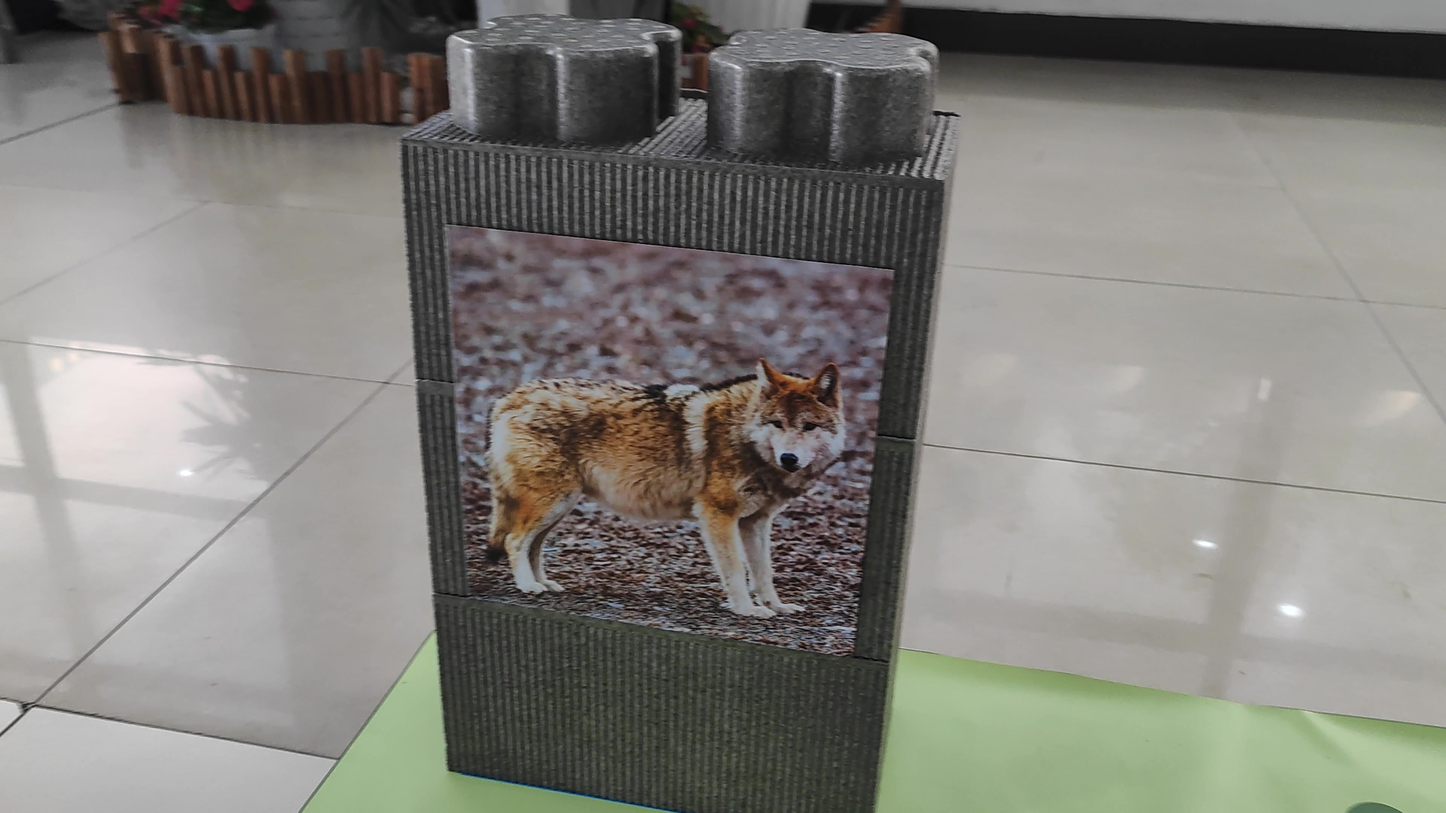wolf: (426, 292, 870, 613)
